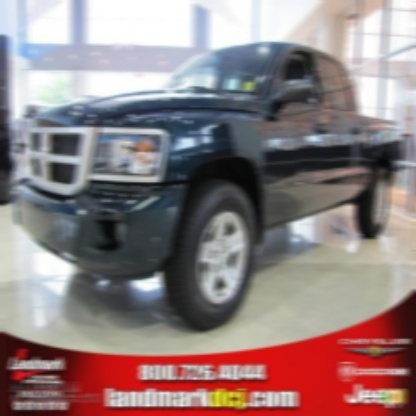Vehicle: (15, 40, 404, 333)
